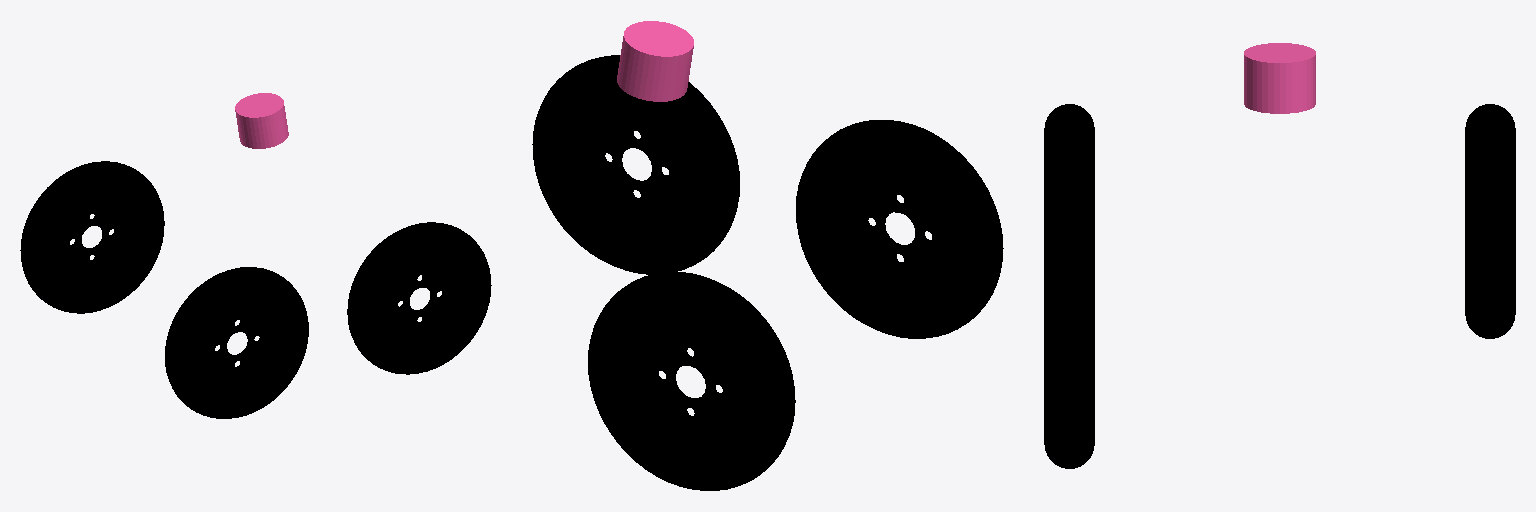
robot.urdf — follow_slave:
<?xml version="1.0" encoding="utf-8"?>
<!-- This URDF was automatically created by SolidWorks to URDF Exporter! Originally created by [author] ([email redacted]) 
     Commit Version: 1.6.0-1-g15f4949  Build Version: 1.6.7594.29634
     For more information, please see http://wiki.ros.org/sw_urdf_exporter -->
<robot
  name="follow_slave">
  <link name="dummy">
   </link>
  <link
    name="slave/base_link">
    <inertial>
      <origin
        xyz="-0.0028375 0.0007996 0.004345"
        rpy="0 0 0" />
      <mass
        value="97.424" />
      <inertia
        ixx="3.7064"
        ixy="0.023148"
        ixz="0.0022243"
        iyy="4.5327"
        iyz="-0.0025154"
        izz="6.3559" />
    </inertial>
    <visual>
      <origin
        xyz="0 0 0"
        rpy="0 0 0" />
      <geometry>
        <mesh
          filename="package://follow_module/meshes/base_link.STL" />
      </geometry>
      <material
        name="">
        <color
          rgba="1 1 0 1" />
      </material>
    </visual>
    <collision>
      <origin
        xyz="0 0 0"
        rpy="0 0 0" />
      <geometry>
        <mesh
          filename="package://follow_module/meshes/base_link.STL" />
      </geometry>
    </collision>
  </link>
  <joint name="dummy_joint" type="fixed">
     <parent link="dummy"/>
     <child link="slave/base_link"/>
   </joint>
  <link
    name="Wheel_LF_Link">
    <inertial>
      <origin
        xyz="2.7756E-17 8.8935E-05 0"
        rpy="0 0 0" />
      <mass
        value="4.1316" />
      <inertia
        ixx="0.042953"
        ixy="2.5755E-18"
        ixz="-6.2831E-22"
        iyy="0.083026"
        iyz="9.7041E-18"
        izz="0.042953" />
    </inertial>
    <visual>
      <origin
        xyz="0 0 0"
        rpy="0 0 0" />
      <geometry>
        <mesh
          filename="package://follow_module/meshes/Wheel_LF_Link.STL" />
      </geometry>
      <material
        name="">
        <color
          rgba="0 0 0 1" />
      </material>
    </visual>
    <collision>
      <origin
        xyz="0 0 0"
        rpy="0 0 0" />
      <geometry>
        <mesh
          filename="package://follow_module/meshes/Wheel_LF_Link.STL" />
      </geometry>
    </collision>
  </link>
  <joint
    name="Wheel_LF_Joint"
    type="continuous">
    <origin
      xyz="0.2325 0.318 -0.035"
      rpy="0 0 0" />
    <parent
      link="slave/base_link" />
    <child
      link="Wheel_LF_Link" />
    <axis
      xyz="0 1 0" />
  </joint>
  <link
    name="Wheel_RF_Link">
    <inertial>
      <origin
        xyz="2.7756E-17 -8.8935E-05 0"
        rpy="0 0 0" />
      <mass
        value="4.1316" />
      <inertia
        ixx="0.042953"
        ixy="2.5755E-18"
        ixz="6.2831E-22"
        iyy="0.083026"
        iyz="-9.7041E-18"
        izz="0.042953" />
    </inertial>
    <visual>
      <origin
        xyz="0 0 0"
        rpy="0 0 0" />
      <geometry>
        <mesh
          filename="package://follow_module/meshes/Wheel_RF_Link.STL" />
      </geometry>
      <material
        name="">
        <color
          rgba="0 0 0 1" />
      </material>
    </visual>
    <collision>
      <origin
        xyz="0 0 0"
        rpy="0 0 0" />
      <geometry>
        <mesh
          filename="package://follow_module/meshes/Wheel_RF_Link.STL" />
      </geometry>
    </collision>
  </link>
  <joint
    name="Wheel_RF_Joint"
    type="continuous">
    <origin
      xyz="0.2325 -0.318 -0.035"
      rpy="0 0 0" />
    <parent
      link="slave/base_link" />
    <child
      link="Wheel_RF_Link" />
    <axis
      xyz="0 1 0" />
  </joint>
  <link
    name="Wheel_LB_Link">
    <inertial>
      <origin
        xyz="0 8.8935E-05 0"
        rpy="0 0 0" />
      <mass
        value="4.1316" />
      <inertia
        ixx="0.042953"
        ixy="2.5755E-18"
        ixz="-6.2831E-22"
        iyy="0.083026"
        iyz="9.7041E-18"
        izz="0.042953" />
    </inertial>
    <visual>
      <origin
        xyz="0 0 0"
        rpy="0 0 0" />
      <geometry>
        <mesh
          filename="package://follow_module/meshes/Wheel_LB_Link.STL" />
      </geometry>
      <material
        name="">
        <color
          rgba="0 0 0 1" />
      </material>
    </visual>
    <collision>
      <origin
        xyz="0 0 0"
        rpy="0 0 0" />
      <geometry>
        <mesh
          filename="package://follow_module/meshes/Wheel_LB_Link.STL" />
      </geometry>
    </collision>
  </link>
  <joint
    name="Wheel_LB_Joint"
    type="continuous">
    <origin
      xyz="-0.2325 0.318 -0.035"
      rpy="0 0 0" />
    <parent
      link="slave/base_link" />
    <child
      link="Wheel_LB_Link" />
    <axis
      xyz="0 1 0" />
  </joint>
  <link
    name="Wheel_RB_Link">
    <inertial>
      <origin
        xyz="-2.7756E-17 -8.8935E-05 0"
        rpy="0 0 0" />
      <mass
        value="4.1316" />
      <inertia
        ixx="0.042953"
        ixy="2.5685E-18"
        ixz="-2.7475E-22"
        iyy="0.083026"
        iyz="-9.7041E-18"
        izz="0.042953" />
    </inertial>
    <visual>
      <origin
        xyz="0 0 0"
        rpy="0 0 0" />
      <geometry>
        <mesh
          filename="package://follow_module/meshes/Wheel_RB_Link.STL" />
      </geometry>
      <material
        name="follow_module">
        <color
          rgba="0 0 0 1" />
      </material>
    </visual>
    <collision>
      <origin
        xyz="0 0 0"
        rpy="0 0 0" />
      <geometry>
        <mesh
          filename="package://follow_module/meshes/Wheel_RB_Link.STL" />
      </geometry>
    </collision>
  </link>
  <joint
    name="Wheel_RB_Joint"
    type="continuous">
    <origin
      xyz="-0.2325 -0.318 -0.035"
      rpy="0 0 0" />
    <parent
      link="slave/base_link" />
    <child
      link="Wheel_RB_Link" />
    <axis
      xyz="0 1 0" />
  </joint>
  <link
    name="slave/Laser_Link">
    <inertial>
      <origin
        xyz="0 0 0"
        rpy="0 0 0" />
      <mass
        value="0.01" />
      <inertia
        ixx="0"
        ixy="0"
        ixz="0"
        iyy="0"
        iyz="0"
        izz="0" />
    </inertial>
    <visual>
      <origin
        xyz="0 0 0"
        rpy="0 0 0" />
      <geometry>
        <mesh
          filename="package://follow_module/meshes/Laser_Link.STL" />
      </geometry>
      <material
        name="">
        <color
          rgba="1 0.4117 0.7059 1" />
      </material>
    </visual>
    <collision>
      <origin
        xyz="0 0 0"
        rpy="0 0 0" />
      <geometry>
        <mesh
          filename="package://follow_module/meshes/Laser_Link.STL" />
      </geometry>
    </collision>
  </link>
  <joint
    name="Laser_Joint"
    type="fixed">
    <origin
      xyz="0.015 0 0.319"
      rpy="0 0 0" />
    <parent
      link="slave/base_link" />
    <child
      link="slave/Laser_Link" />
    <axis
      xyz="-0.1513 0 0.98849" />
    <limit
      lower="0"
      upper="0"
      effort="0"
      velocity="0" />
  </joint>
  <gazebo reference="slave/base_link">
   <material>Gazebo/Yellow</material>
  </gazebo>
  <gazebo reference="Wheel_LF_Link">
   <material>Gazebo/Black</material>
  </gazebo>
  <gazebo reference="Wheel_RF_Link">
   <material>Gazebo/Black</material>
  </gazebo>
  <gazebo reference="Wheel_LB_Link">
   <material>Gazebo/Black</material>
  </gazebo>
  <gazebo reference="Wheel_RB_Link">
   <material>Gazebo/Black</material>
  </gazebo>
	<gazebo reference="slave/Laser_Link">
            <sensor type="ray" name="rplidar">
                <pose>0 0 0 0 0 0</pose>
                <visualize>true</visualize>
                <update_rate>10</update_rate>
                <ray>
                    <scan>
                      <horizontal>
                        <samples>800</samples>
                        <resolution>0.45</resolution>
                        <min_angle>-1.57</min_angle>
                        <max_angle>1.57</max_angle>
                      </horizontal>
                    </scan>
                    <range>
                      <min>0.10</min>
                      <max>12.0</max>
                      <resolution>0.003</resolution>
                    </range>
                    <noise>
                      <type>gaussian</type>
                      <mean>0.0</mean>
                      <stddev>0.003</stddev>
                    </noise>
                </ray>
                <plugin name="gazebo_rplidar" filename="libgazebo_ros_laser.so">
                    <topicName>scan</topicName>
                    <frameName>Laser_Link</frameName>
                </plugin>
            </sensor>
        </gazebo>
  <!--gazebo reference="Laser_Link">
   <material>Gazebo/Blue</material>
  </gazebo-->
  <!--gazebo reference="Laser_Link">
    <material>Gazebo/Blue</material>
    <sensor type="ray" name="velodyne-VLP16">
      <pose>0 0 0 0 0 0</pose>
      <visualize>false</visualize>
      <update_rate>10</update_rate>
      <ray>
        <scan>
          <horizontal>
            <samples>1800</samples>
            <resolution>1</resolution>
            <min_angle>-3.1415926535897931</min_angle>
            <max_angle>3.1415926535897931</max_angle>
          </horizontal>
          <vertical>
            <samples>32</samples>
            <resolution>1</resolution>
            <min_angle>-0.261799387799149436</min_angle>
            <max_angle>0.261799387799149436</max_angle>
          </vertical>
        </scan>
        <range>
          <min>0.30</min>
          <max>200.0</max>
          <resolution>0.003</resolution>
        </range>
        <noise>
          <type>gaussian</type>
          <mean>0.0</mean>
          <stddev>0.01</stddev>
        </noise>
      </ray>
      <plugin name="gazebo_ros_laser_controller" filename="libgazebo_ros_velodyne_laser.so">
        <topicName>/velodyne_points</topicName>
        <frameName>Laser_Link</frameName>
        <organize_cloud>false</organize_cloud>
        <min_range>0.40</min_range>
        <max_range>200.0</max_range>
        <gaussianNoise>0.008</gaussianNoise>
      </plugin>
    </sensor>
  </gazebo-->
  <!--  robot controller  -->
<gazebo>
  <plugin name="skid_steer_drive_controller" filename="libgazebo_ros_skid_steer_drive.so">
    <updateRate>50.0</updateRate>
    <robotNamespace>slave</robotNamespace>
    <leftFrontJoint>Wheel_LF_Joint</leftFrontJoint>
    <rightFrontJoint>Wheel_RF_Joint</rightFrontJoint>
    <leftRearJoint>Wheel_LB_Joint</leftRearJoint>
    <rightRearJoint>Wheel_RB_Joint</rightRearJoint> 
    <wheelSeparation>0.480</wheelSeparation>
    <wheelDiameter>0.35</wheelDiameter>
    <commandTopic>cmd_vel</commandTopic>
    <odometryTopic>odom</odometryTopic>
    <robotBaseFrame>slave/base_link</robotBaseFrame>
    <odometryFrame>slave/odom</odometryFrame>
    <torque>150</torque>
    <topicName>cmd_vel</topicName>
    <broadcastTF>1</broadcastTF>
    <covariance_x>0.0001</covariance_x>
    <covariance_y>0.0001</covariance_y>
    <covariance_yaw>0.01</covariance_yaw>
  </plugin>
</gazebo>
</robot>

--- Render facts (derived) ---
The picture shows the robot from 3 angles, left to right: view 1: azimuth 30°, elevation 25°; view 2: azimuth 150°, elevation 25°; view 3: azimuth 270°, elevation 25°; orthographic projection.
Model follow_slave with 7 links and 6 joints (4 continuous, 2 fixed), rooted at dummy, posed all joints at 0.
Visible links, largest first — view 1: Wheel_LB_Link, Wheel_RF_Link, Wheel_RB_Link, slave/Laser_Link; view 2: Wheel_LB_Link, Wheel_RB_Link, Wheel_RF_Link, slave/Laser_Link; view 3: Wheel_RF_Link, Wheel_LB_Link, Wheel_RB_Link, slave/Laser_Link.
Link boxes in pixels (x1=…): Wheel_LB_Link: x1=20, y1=161, x2=164, y2=313; Wheel_RF_Link: x1=347, y1=222, x2=491, y2=374; Wheel_RB_Link: x1=165, y1=267, x2=308, y2=418; slave/Laser_Link: x1=235, y1=93, x2=288, y2=148; Wheel_LB_Link: x1=588, y1=272, x2=795, y2=490; Wheel_RB_Link: x1=796, y1=120, x2=1003, y2=338; Wheel_RF_Link: x1=532, y1=55, x2=739, y2=274; slave/Laser_Link: x1=617, y1=21, x2=693, y2=101; Wheel_RF_Link: x1=1044, y1=234, x2=1094, y2=468; Wheel_LB_Link: x1=1465, y1=104, x2=1515, y2=338; Wheel_RB_Link: x1=1044, y1=104, x2=1094, y2=257; slave/Laser_Link: x1=1244, y1=43, x2=1315, y2=113.
Size in the robot's own frame: 0.8205 by 0.7119 by 0.5792 metres.
Meshes: 6 distinct files referenced, 4 mesh visuals loaded (4 binary STL); not drawn: 2 (reference not matched to a file when rendering).
